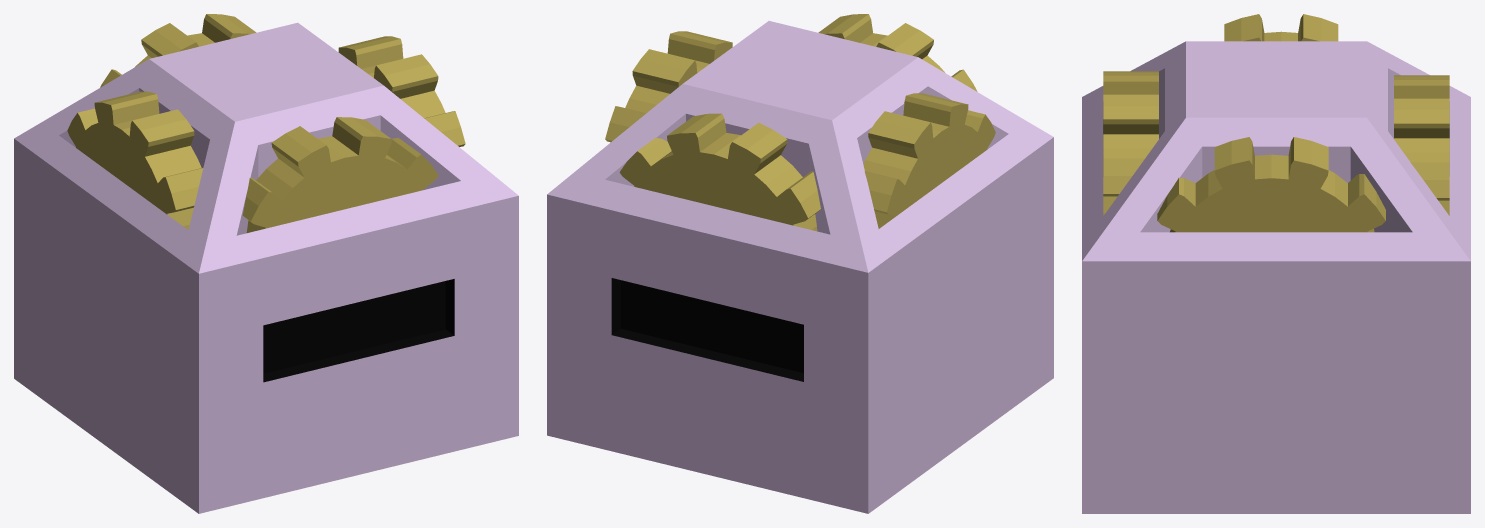
The model's file is Assembler.fbx.
3 views of the same model, side by side, from view 1: azimuth 30°, elevation 25°; view 2: azimuth 150°, elevation 25°; view 3: azimuth 270°, elevation 25° (orthographic). The views are drawn at different scales.
Visible parts, largest first — view 1: Cube, Gear.003, Gear, Gear.002, Gear.001; view 2: Cube, Gear.001, Gear, Gear.002, Gear.003; view 3: Cube, Gear.002, Gear.003, Gear.001, Gear.
Part boxes in pixels (x1,y1,x2,y2): Cube: (14,22,518,513); Gear.003: (242,117,438,232); Gear: (67,91,203,229); Gear.002: (338,36,465,146); Gear.001: (100,14,256,87); Cube: (547,21,1053,513); Gear.001: (619,113,820,231); Gear: (863,93,995,228); Gear.002: (605,31,732,142); Gear.003: (818,14,977,91); Cube: (1082,41,1470,513); Gear.002: (1157,137,1385,232); Gear.003: (1103,71,1158,215); Gear.001: (1394,75,1449,215); Gear: (1224,14,1338,41).
Bounding box in the file's own units: 1 × 1 × 1.
